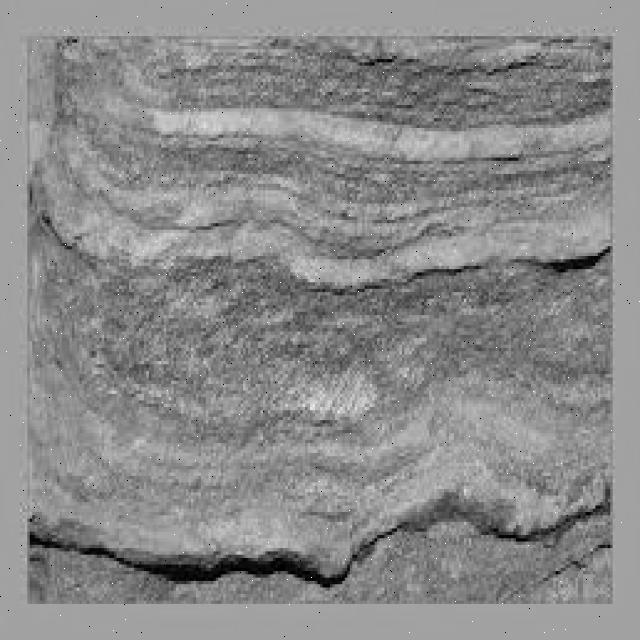Metamorphic: (35, 36, 618, 607)
